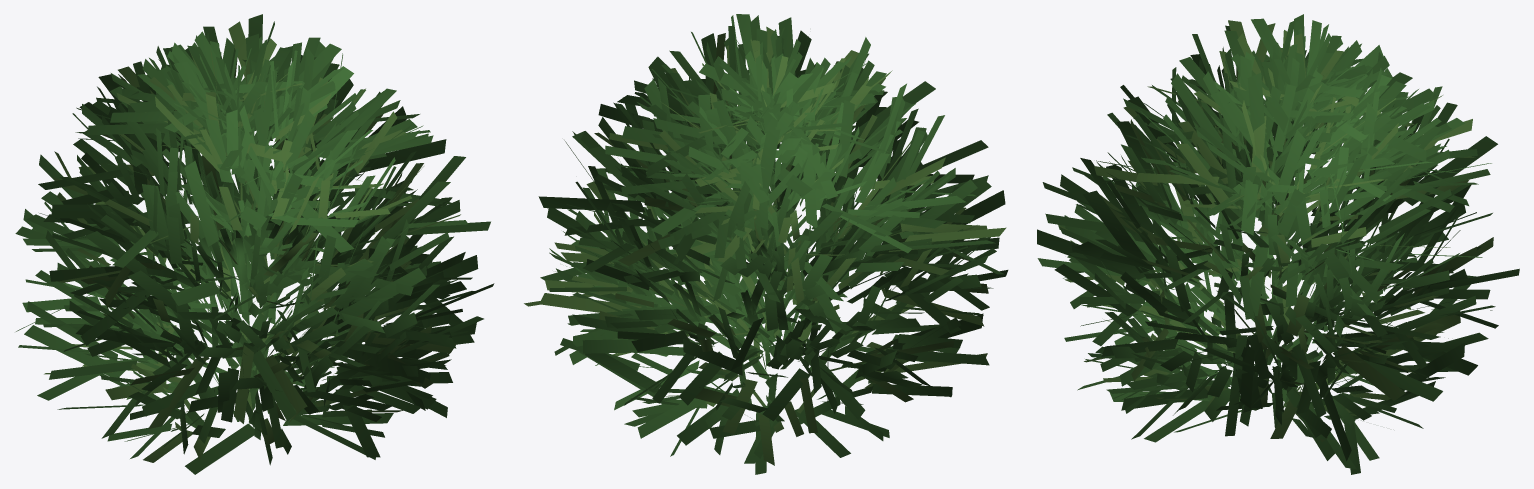
File: arbusto_redondo_1.glb
The picture shows the model from 3 angles, left to right: view 1: azimuth 30°, elevation 25°; view 2: azimuth 150°, elevation 25°; view 3: azimuth 270°, elevation 25°; orthographic projection. The views are drawn at different scales.
Visible parts, largest first — view 1: arbusto_redondo_1; view 2: arbusto_redondo_1; view 3: arbusto_redondo_1.
Boxes of the visible parts, x1,y1,x2,y2 form: arbusto_redondo_1: (15,14,494,474); arbusto_redondo_1: (524,14,1008,474); arbusto_redondo_1: (1037,14,1519,474).
Size of the model in its own units: 0.779 by 0.6957 by 0.7676.
